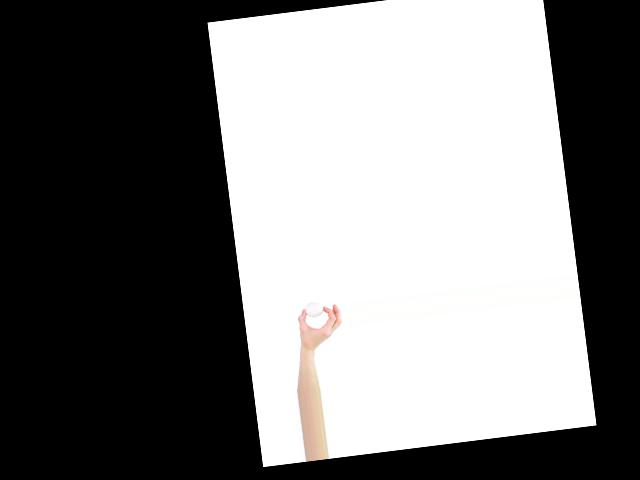egg: (304, 301, 324, 318)
